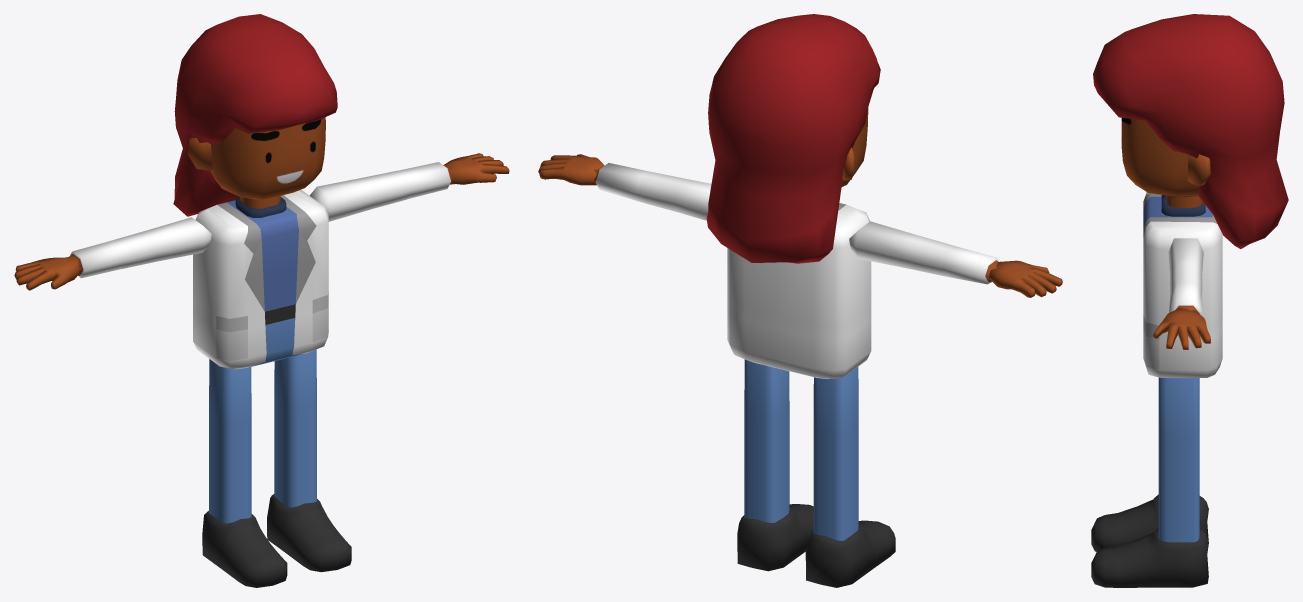
File: NPC_Yellow01_RedHair02.gltf
3 renders of one model, left to right at view 1: azimuth 30°, elevation 25°; view 2: azimuth 150°, elevation 25°; view 3: azimuth 270°, elevation 25°, orthographic. The views are drawn at different scales.
Visible parts, largest first — view 1: NPC_Corpo_Yellow1_RedHair.002; view 2: NPC_Corpo_Yellow1_RedHair.002; view 3: NPC_Corpo_Yellow1_RedHair.002.
Part boxes in pixels (x1,y1,x2,y2): NPC_Corpo_Yellow1_RedHair.002: (14, 14, 509, 587); NPC_Corpo_Yellow1_RedHair.002: (538, 14, 1062, 587); NPC_Corpo_Yellow1_RedHair.002: (1091, 14, 1288, 587).
Bounding box in the file's own units: 2.31 × 2.33 × 0.7777.
1 material, 1 textured.
